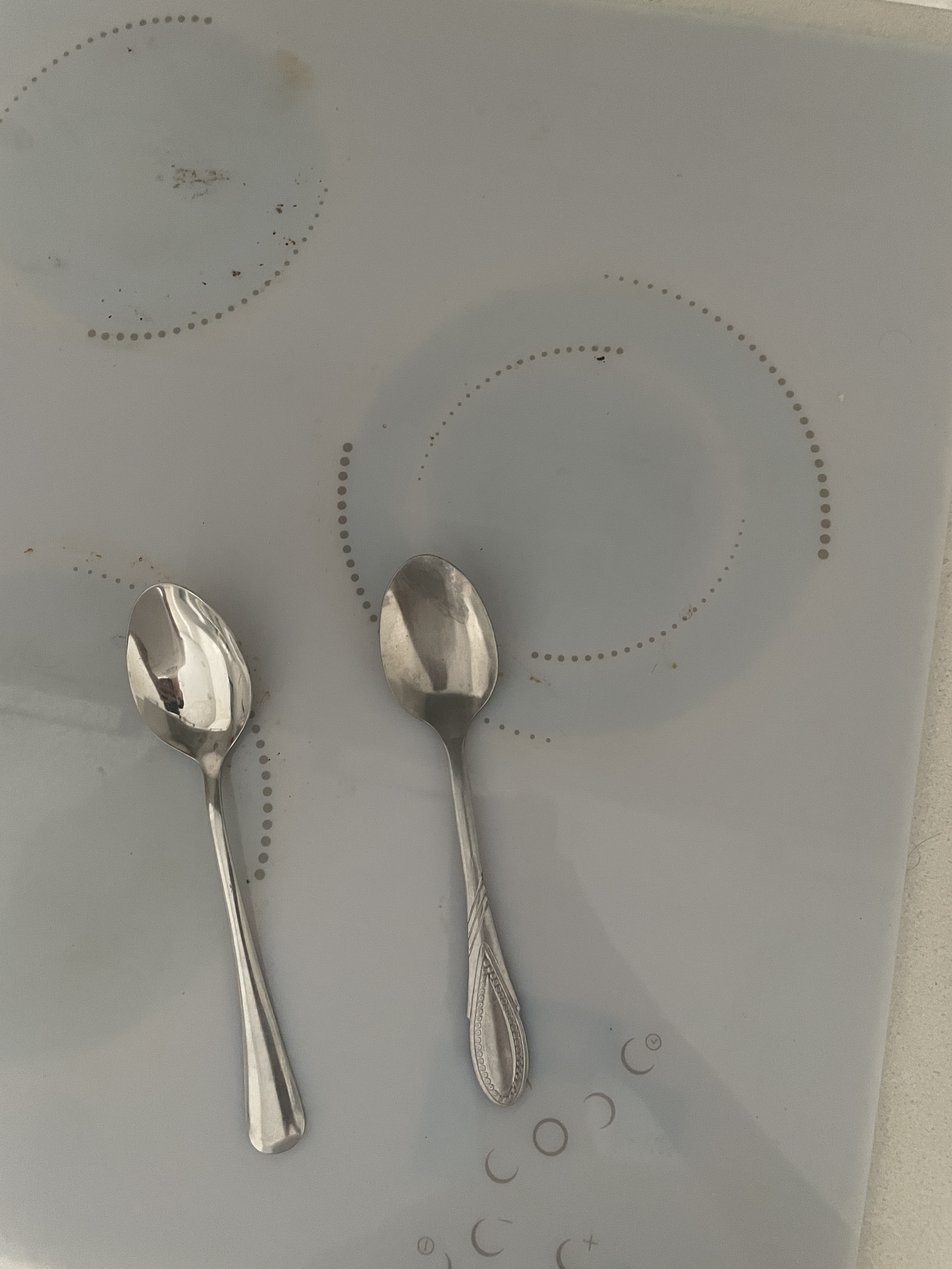spoon: (123, 582, 307, 1155), (375, 553, 528, 1109)
